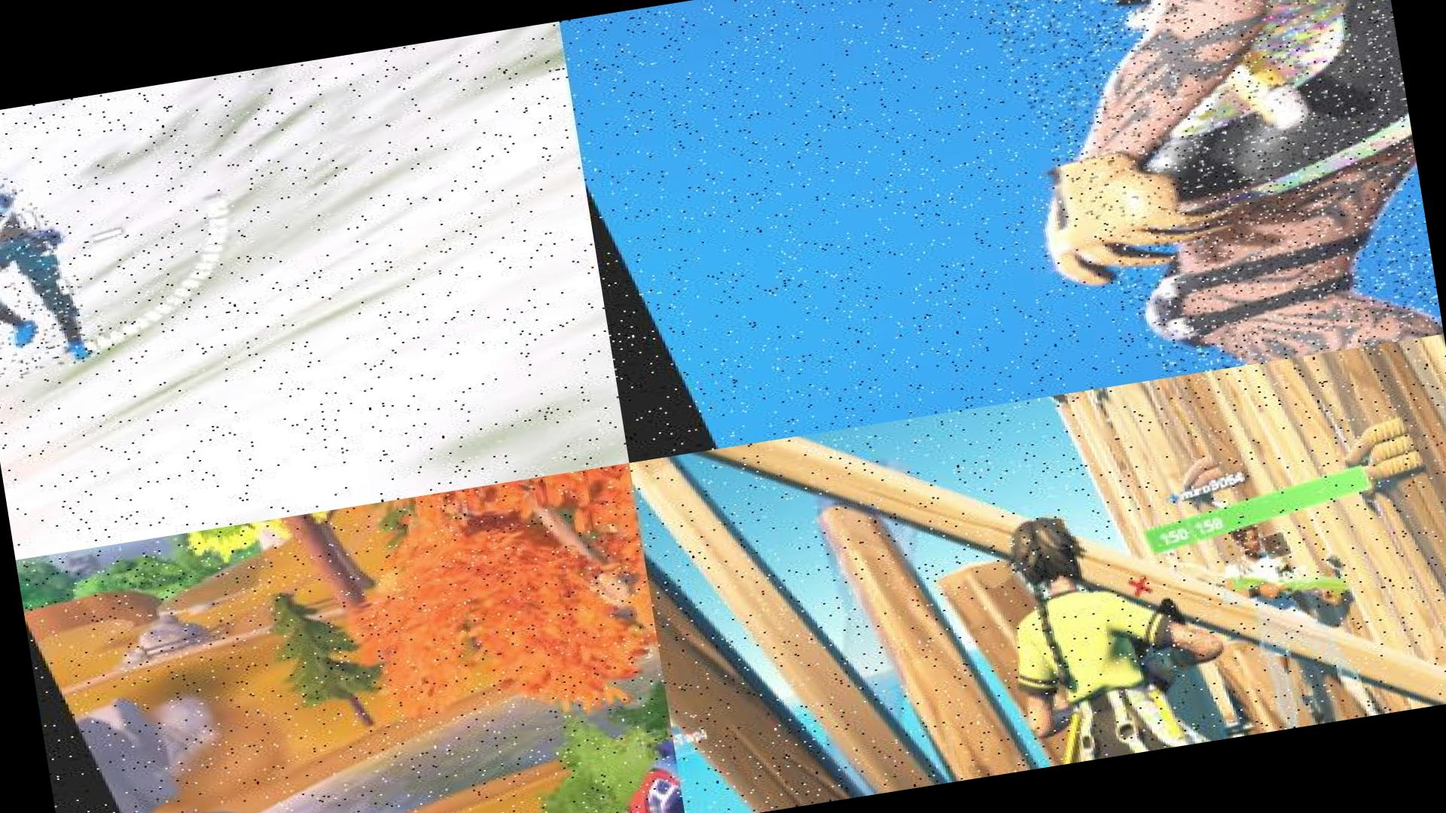player: (940, 0, 1443, 402), (944, 583, 1262, 779), (0, 195, 84, 405), (1190, 568, 1300, 658)
